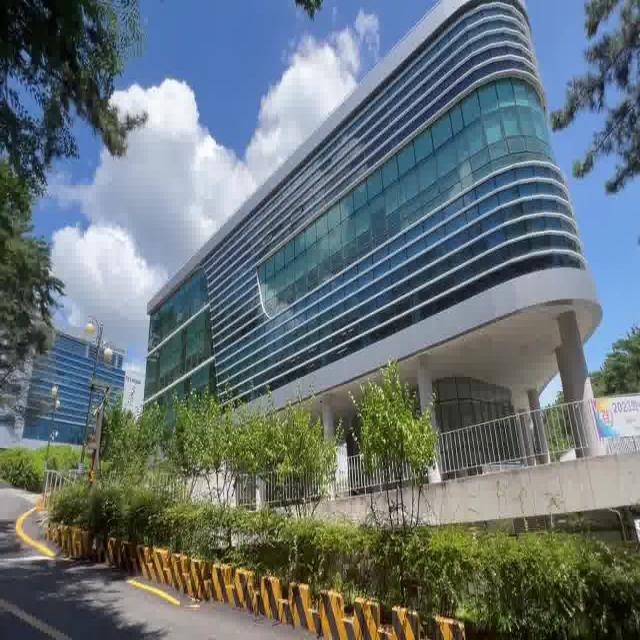building: (156, 12, 552, 374)
